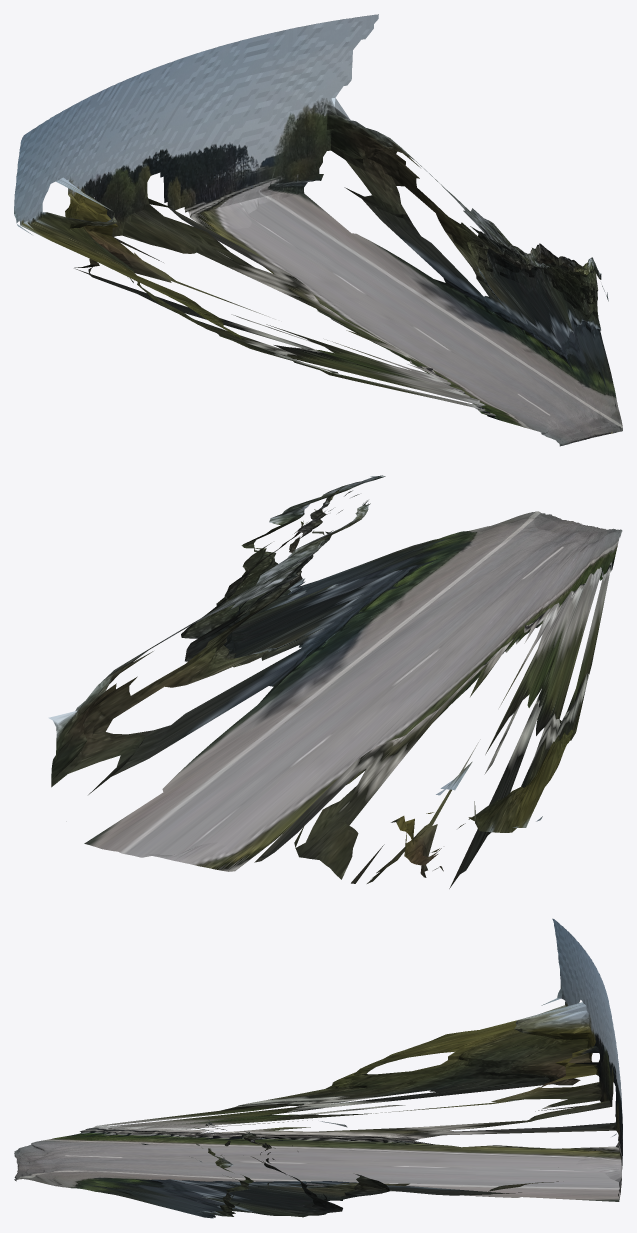
The picture shows the model from 3 angles, top to bottom: view 1: azimuth 30°, elevation 25°; view 2: azimuth 150°, elevation 25°; view 3: azimuth 270°, elevation 25°; orthographic projection. The views are drawn at different scales.
Visible parts, largest first — view 1: defaultobject; view 2: defaultobject; view 3: defaultobject.
Boxes of the visible parts, <box> form: defaultobject: <box>14,14,622,446</box>; defaultobject: <box>48,475,622,888</box>; defaultobject: <box>14,918,622,1218</box>.
Bounding box in the file's own units: 30.76 × 12.47 × 44.51.
Materials: 1 (1 with a texture image).
